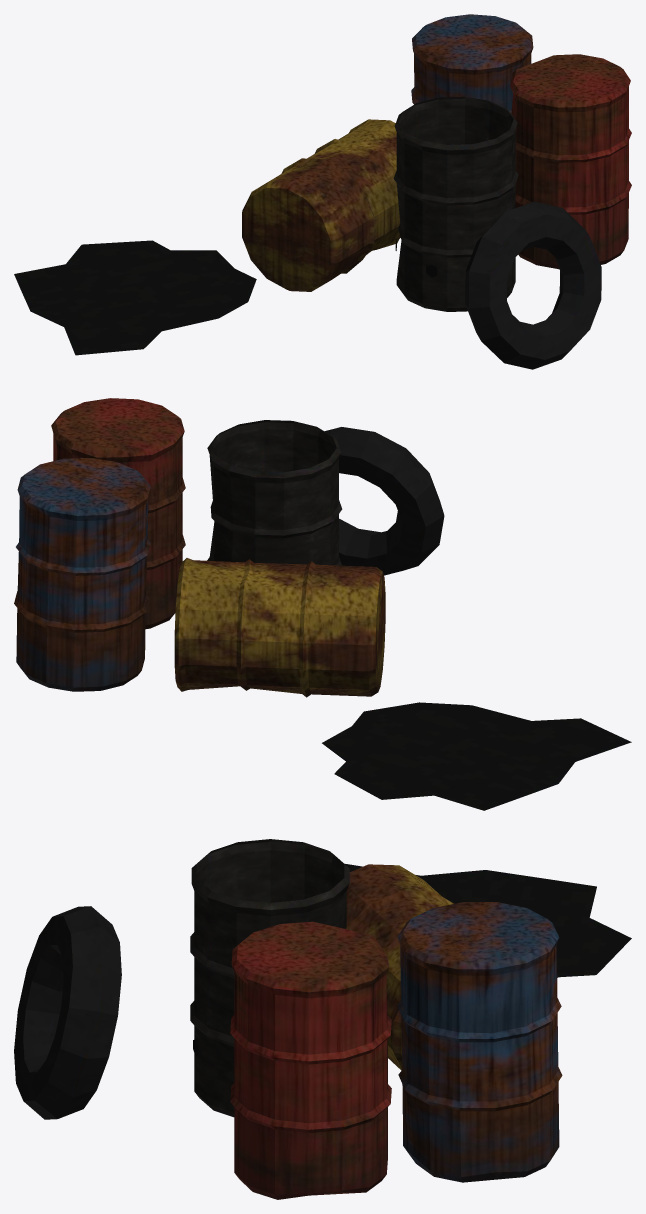
Rendered from oil_drums.glb.
The picture shows the model from 3 angles, top to bottom: view 1: azimuth 30°, elevation 25°; view 2: azimuth 150°, elevation 25°; view 3: azimuth 270°, elevation 25°; orthographic projection. The views are drawn at different scales.
Visible parts, largest first — view 1: oil_drums; view 2: oil_drums; view 3: oil_drums.
Part boxes in pixels (x1=…): oil_drums: x1=14, y1=14, x2=631, y2=369; oil_drums: x1=14, y1=398, x2=631, y2=810; oil_drums: x1=14, y1=839, x2=631, y2=1199.
Bounding box in the file's own units: 3.01 × 0.9714 × 2.29.
1 material, 1 textured.
